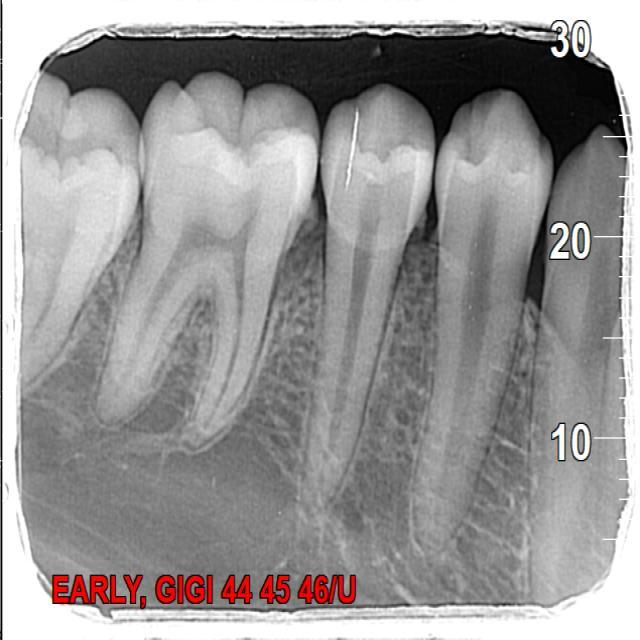individual-tooth-8tto: (86, 74, 321, 440), (409, 87, 549, 552), (297, 85, 434, 503)
